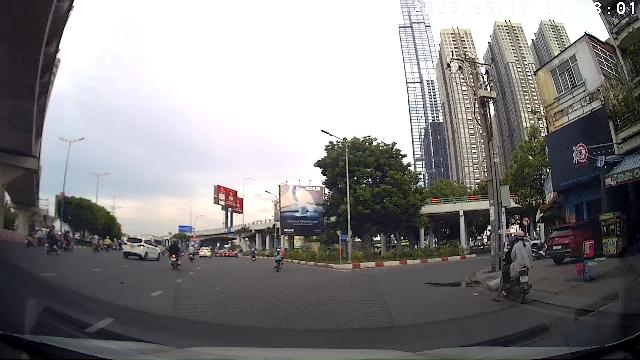123a-cam-re-trai: (522, 216, 530, 226)
